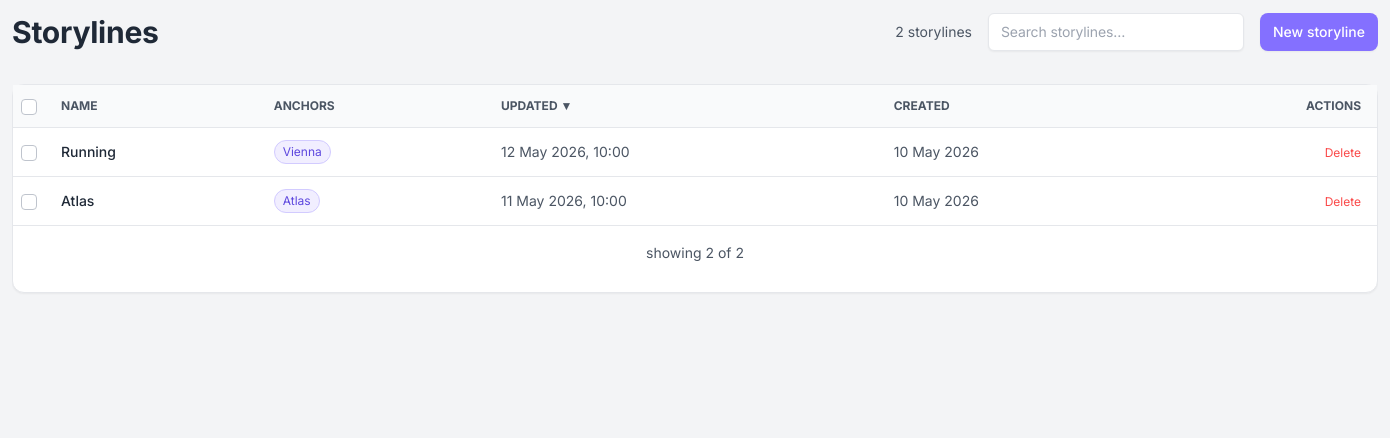
Test: StorylineListView › shows the delete-error banner when a delete fails
The image size is (1390, 438).
Click the button with test id "row-delete-button" in the row of "Running".
click(1343, 153)  # box [1325, 144, 1361, 162]
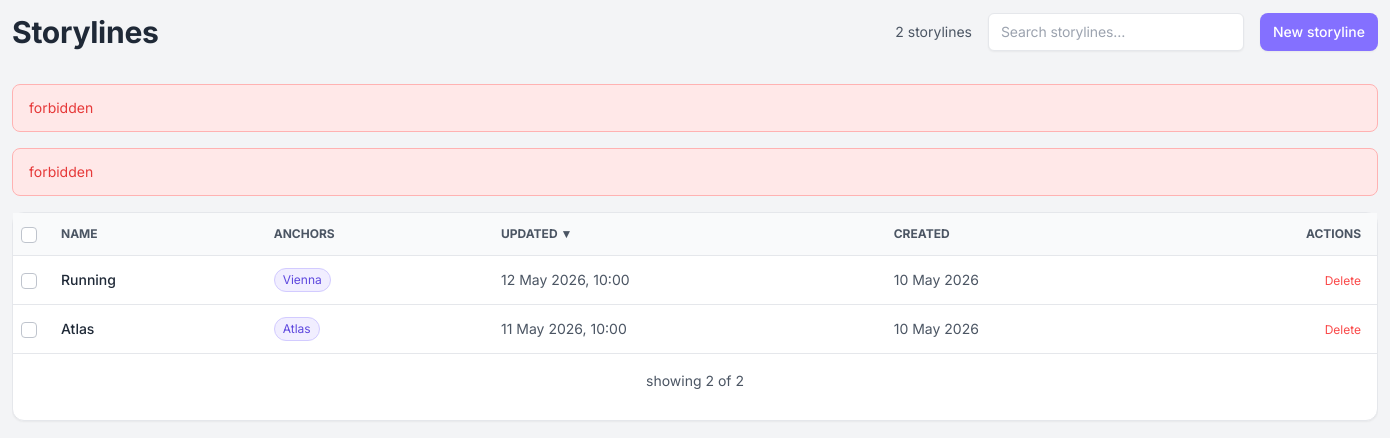
Now the text with test id "delete-error-banner" reads "forbidden", box [29, 163, 93, 180]
